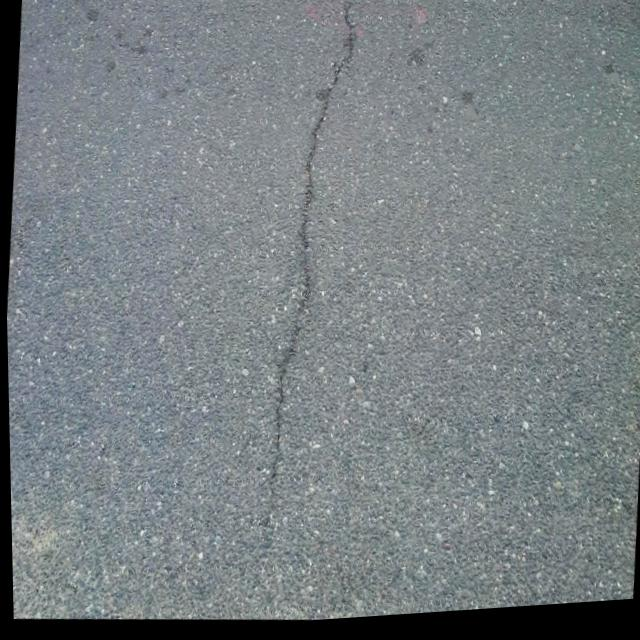Crack: (211, 0, 380, 629)
